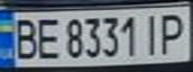1: (118, 12, 142, 57)
3: (81, 15, 103, 60), (100, 14, 121, 58)
8: (60, 15, 84, 60)
B: (9, 15, 42, 61)
E: (33, 15, 63, 61)
I: (139, 11, 163, 56)
P: (157, 10, 190, 55)
